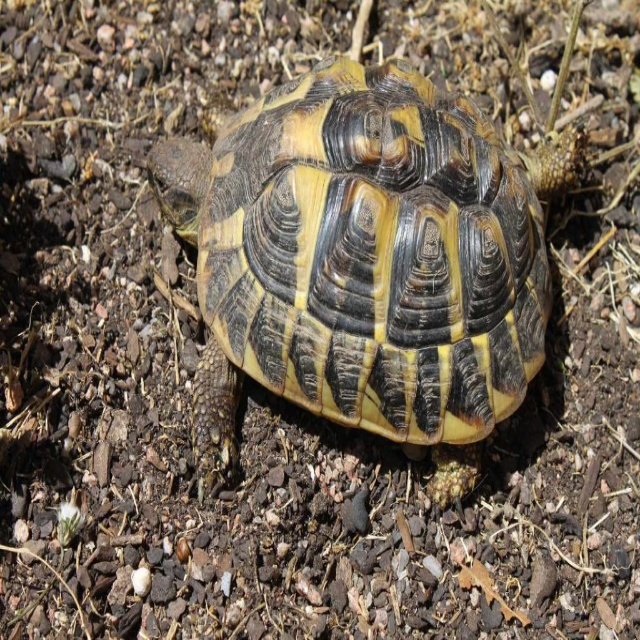Sea turtle: (145, 46, 592, 506)
